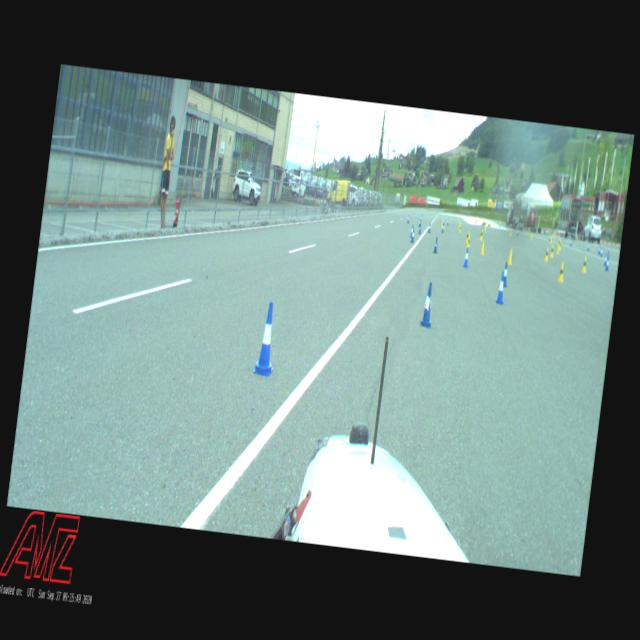blue_cone: (253, 302, 280, 374), (420, 282, 435, 326), (496, 272, 506, 303), (500, 261, 509, 286), (463, 247, 469, 267), (433, 236, 438, 253), (603, 252, 608, 266), (410, 228, 415, 242), (409, 224, 414, 237), (440, 223, 445, 233), (605, 258, 609, 270), (427, 222, 431, 232), (418, 216, 422, 226), (586, 240, 590, 250), (418, 224, 422, 233), (600, 247, 603, 256), (406, 214, 409, 223), (597, 245, 600, 254), (569, 237, 572, 246)
yellow_cone: (558, 262, 564, 281), (582, 256, 588, 272), (544, 246, 550, 260), (508, 247, 513, 263), (549, 244, 554, 256), (466, 234, 471, 246), (480, 240, 484, 253), (466, 230, 469, 242), (458, 224, 462, 232), (556, 244, 559, 254), (549, 234, 552, 244), (509, 227, 512, 236), (558, 240, 561, 249), (480, 228, 482, 240), (442, 220, 444, 228), (530, 230, 532, 238)
